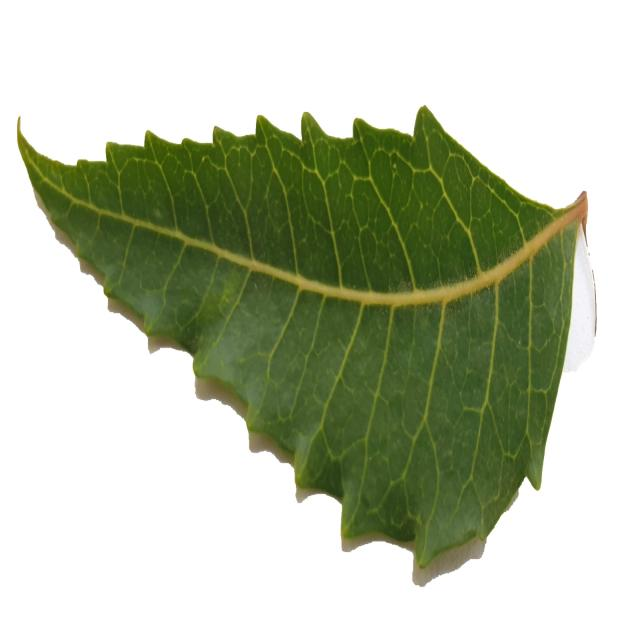Medicinal-Neem: (17, 100, 599, 588)
